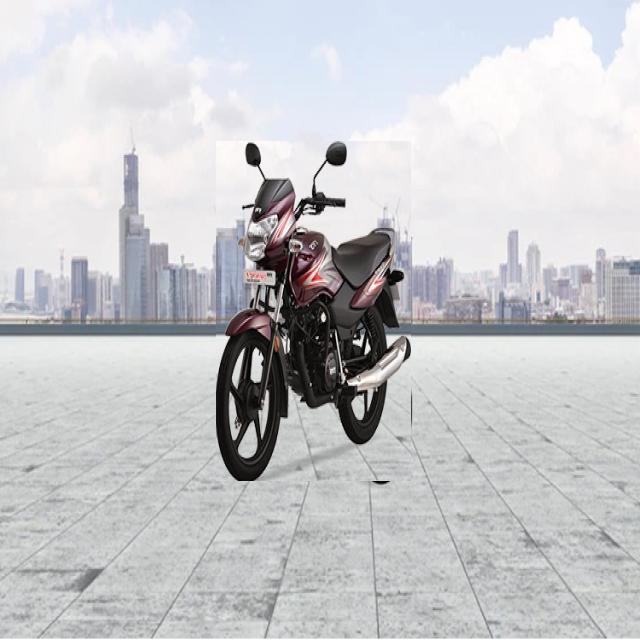motorcycle: (216, 142, 411, 481)
